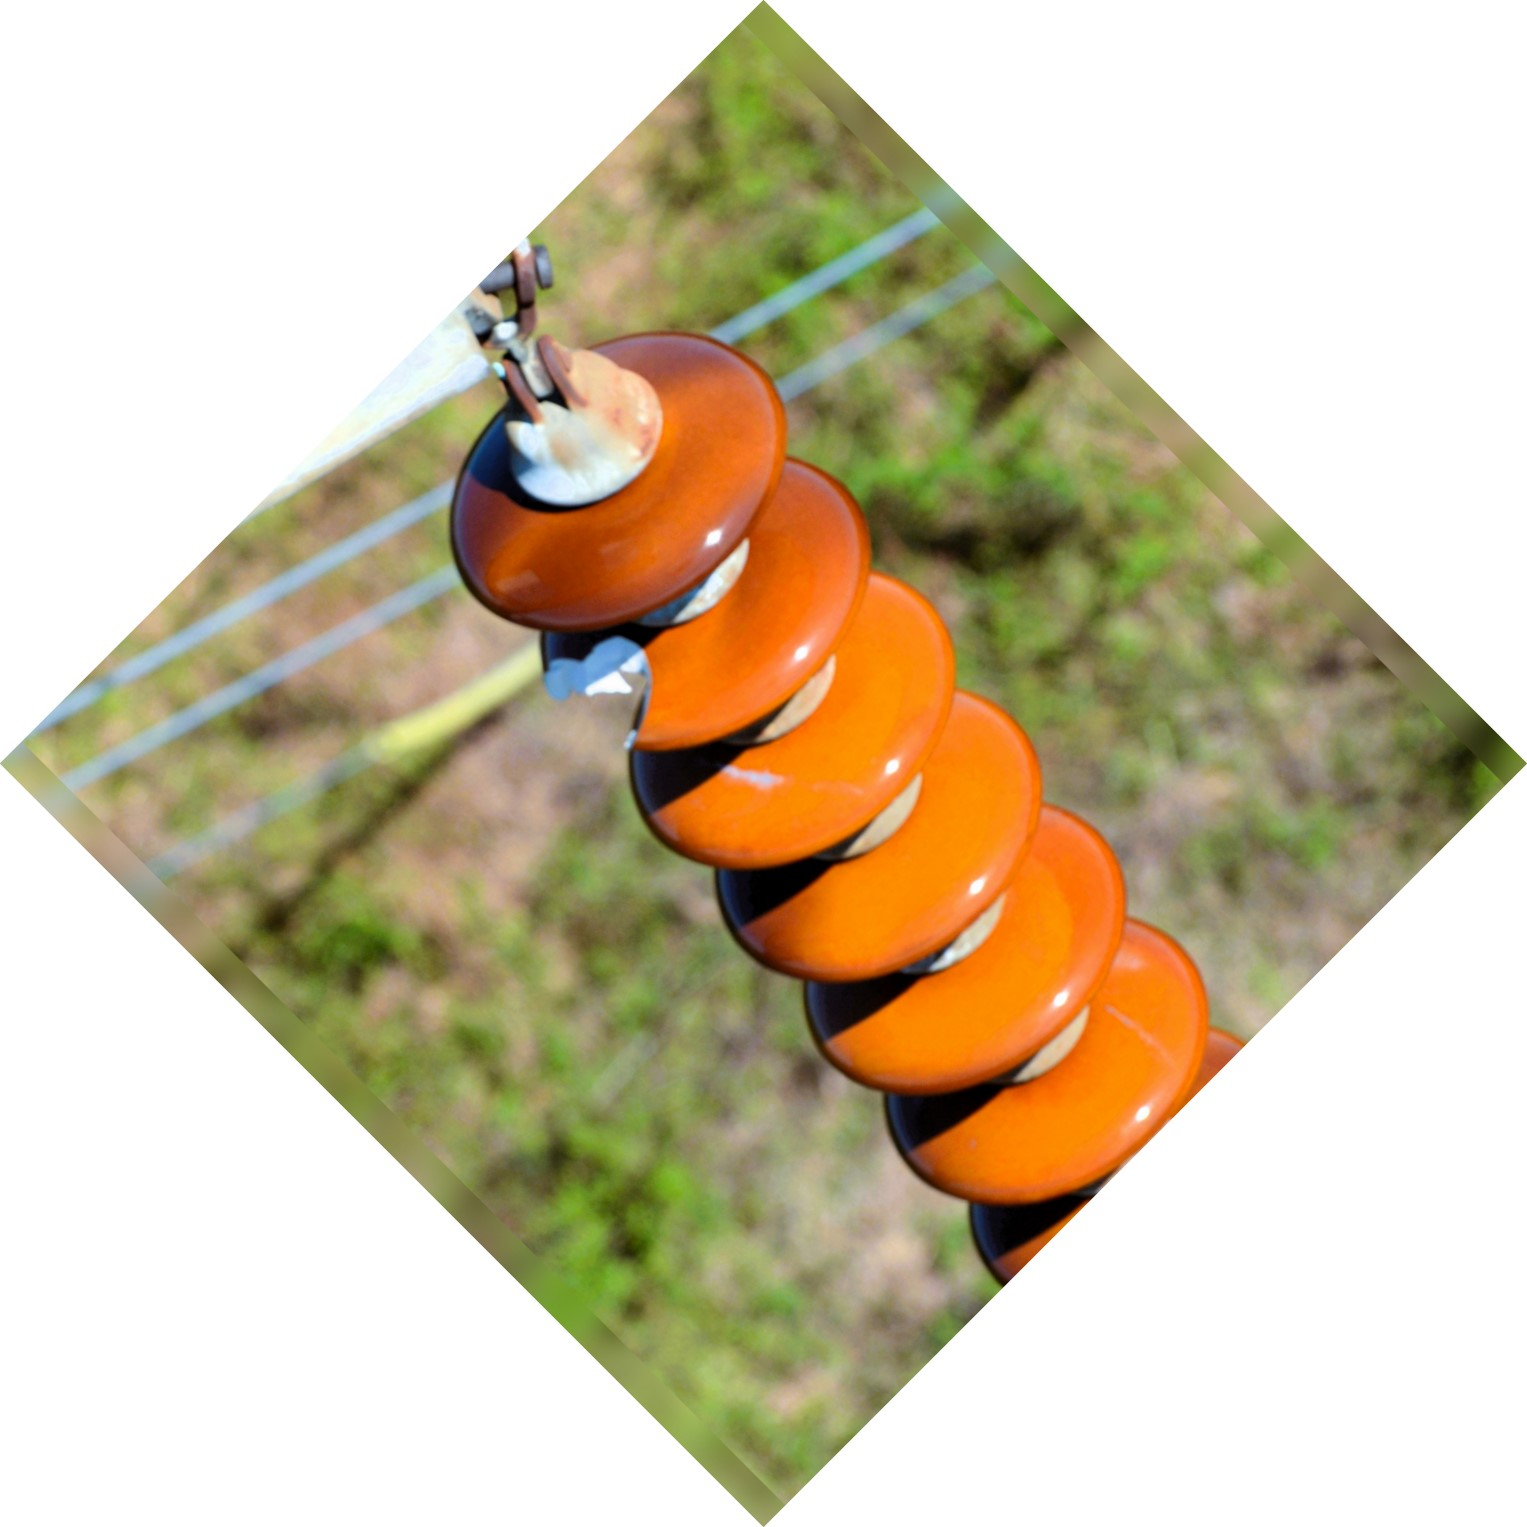insulator breakage: (501, 466, 878, 765)
